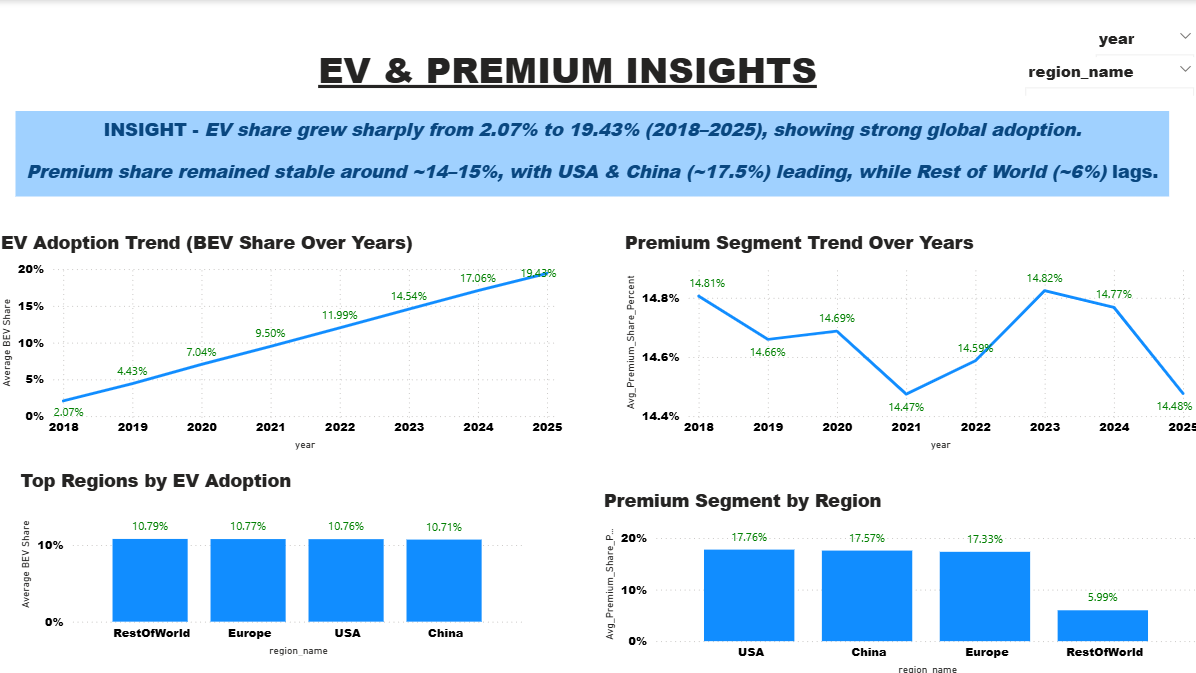

The page's visual inventory and layout, read from the dashboard file:
{"tool":"powerbi","page":{"name":"Page 3","canvas":[1280,720],"ordinal":2},"visuals":[{"type":"slicer","fields":{"Values":["dim_region.region_name"]},"box":[1081.6,58.9,198.8,42.9],"z":0},{"type":"slicer","fields":{"Values":["dim_date.year"]},"box":[1156.4,23.9,124.1,36.6],"z":1000},{"type":"lineChart","title":"EV Adoption Trend (BEV Share Over Years)","fields":{"Category":["dim_date.year"],"Y":["fact_sales.Average BEV Share"]},"box":[0,243.4,606,238.6],"z":4000},{"type":"lineChart","title":"Premium Segment Trend Over Years","fields":{"Category":["dim_date.year"],"Y":["fact_sales.Avg_Premium_share"]},"box":[661.7,243.4,618.7,238.6],"z":5000},{"type":"clusteredColumnChart","title":"Premium Segment by Region","fields":{"Category":["dim_region.region_name"],"Y":["fact_sales.Avg_Premium_share"]},"box":[639.4,516.9,641,203.6],"z":6000},{"type":"columnChart","title":"Top Regions by EV Adoption","fields":{"Category":["dim_region.region_name"],"Y":["fact_sales.Average BEV Share"]},"box":[20.7,496.3,544,203.6],"z":7000},{"type":"textbox","box":[184.5,41.4,843,76.3],"z":8000},{"type":"textbox","box":[20.7,117.7,1223.2,90.7],"z":8001}]}

Visuals, with their boxes in screenshot pixels (x1, y1, x2, y2), scaled from the page's 1280x720 canvas onto the 1196x673 screenshot:
slicer - dim_region.region_name: l=1011, t=55, r=1195, b=95
slicer - dim_date.year: l=1081, t=22, r=1195, b=57
"EV Adoption Trend (BEV Share Over Years)" lineChart: l=0, t=228, r=566, b=451
"Premium Segment Trend Over Years" lineChart: l=618, t=228, r=1195, b=451
"Premium Segment by Region" clusteredColumnChart: l=597, t=483, r=1195, b=672
"Top Regions by EV Adoption" columnChart: l=19, t=464, r=528, b=654
textbox: l=172, t=39, r=960, b=110
textbox: l=19, t=110, r=1162, b=195
